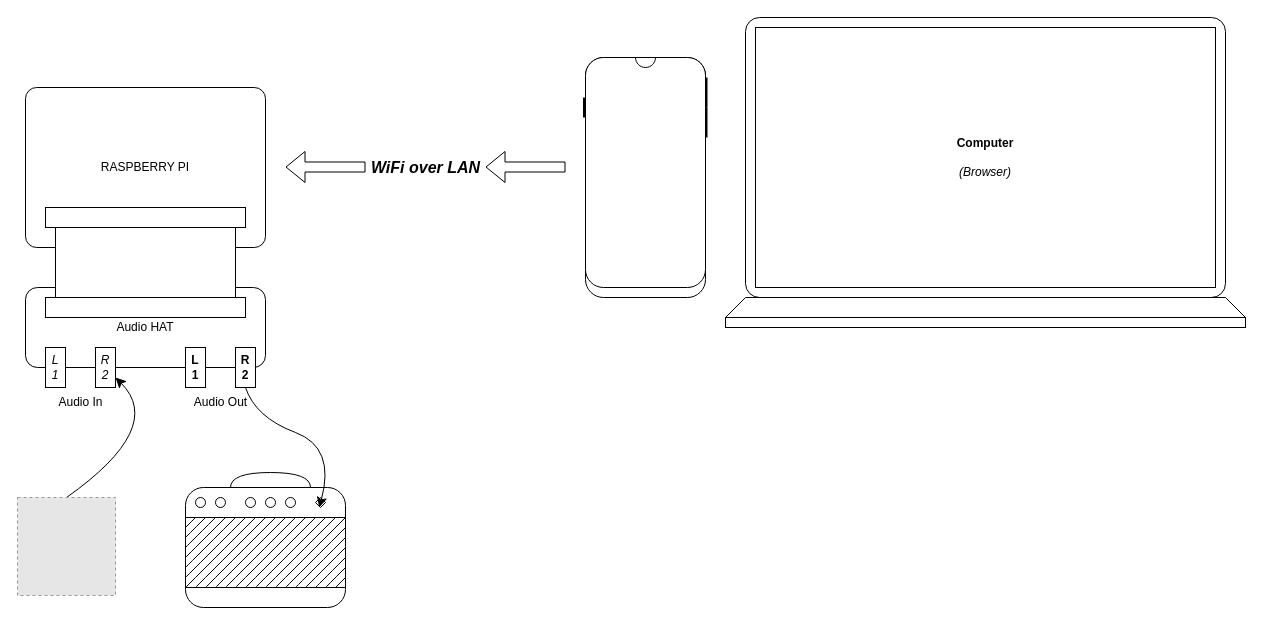
The diagram is 1263 pixels wide and 625 high, and some of its shapes have lost their labels. Grey dashed boxes stand in for pictures. Each missing label, with the box of its shape:
AMP: (184, 516, 346, 588)
GPIO F: (44, 296, 246, 318)
GPIO M: (44, 206, 246, 228)
Phone (Browser/ Android Web App): (584, 56, 706, 288)
